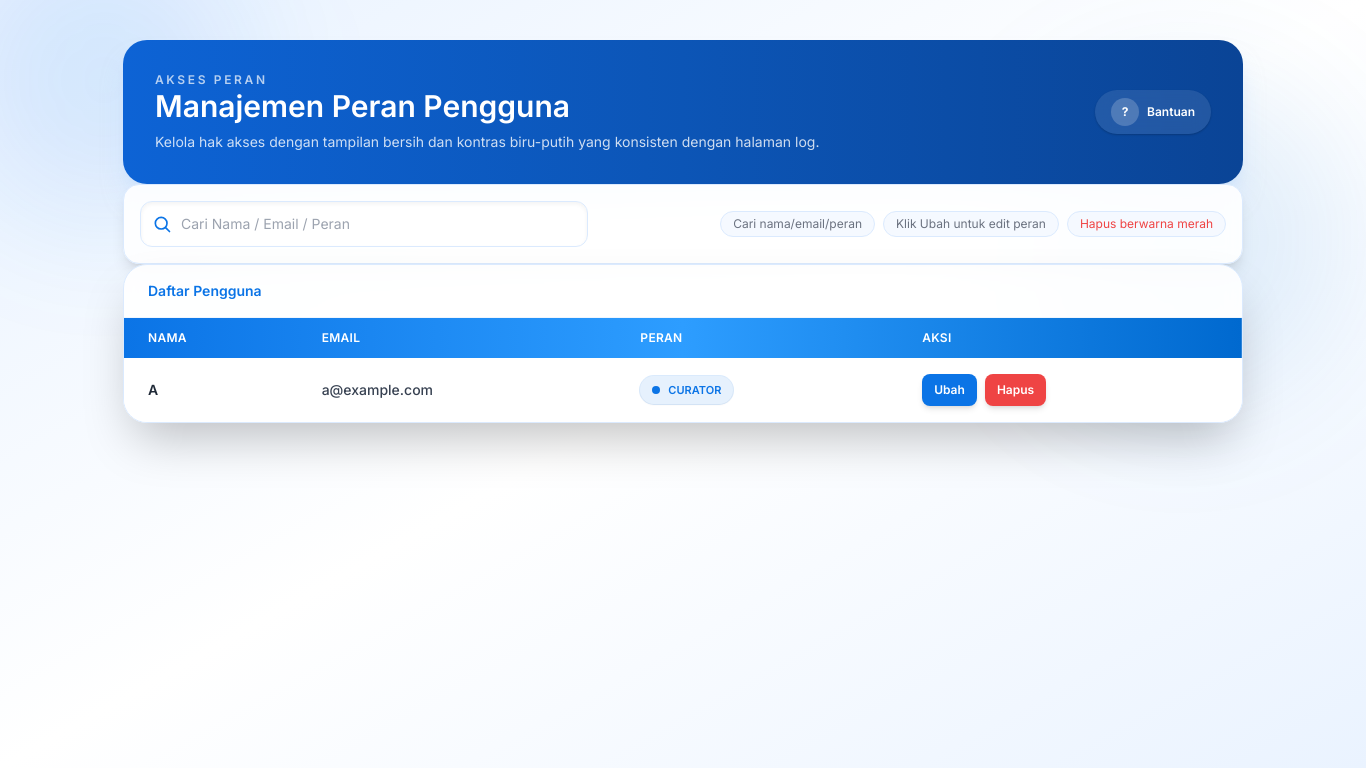
Test case: saving role shows success toast
Check: the text "A" is shown, box x1=148 y1=381 x2=158 y2=398
Click the button "Ubah" at {"x": 950, "y": 390}, box x1=922 y1=374 x2=977 y2=406
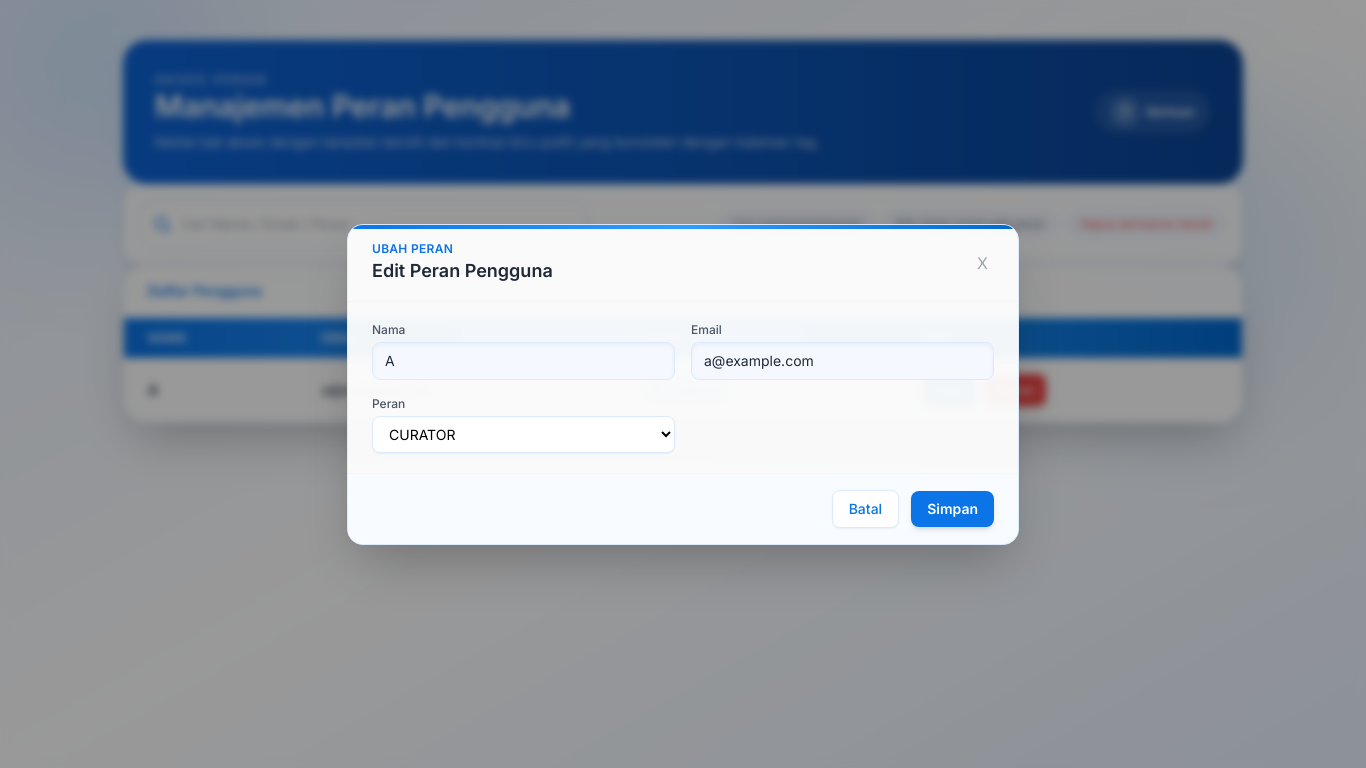
Select "ADMIN" in the dropdown showing "CURATOR" at {"x": 524, "y": 434}, box x1=372 y1=416 x2=675 y2=452
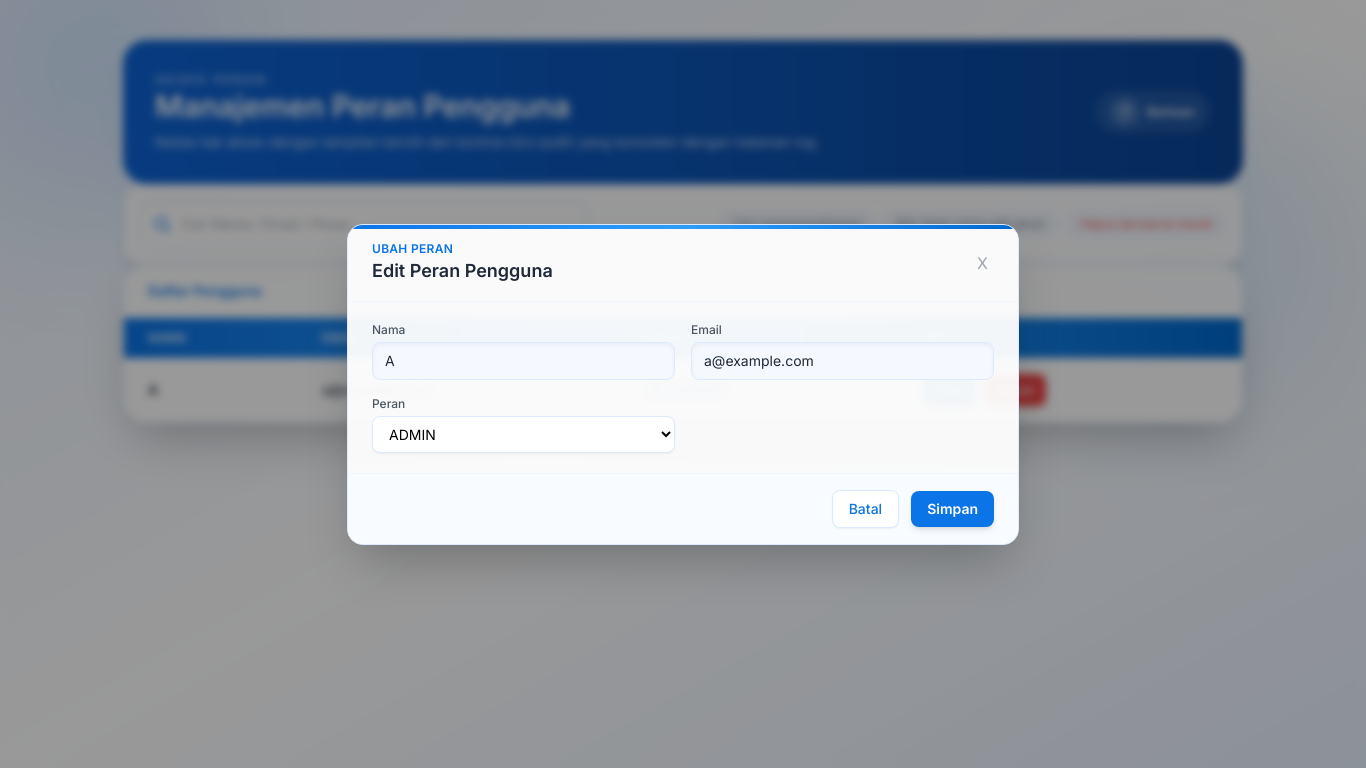
Click the button "Simpan" at {"x": 953, "y": 508}, box x1=911 y1=490 x2=994 y2=526
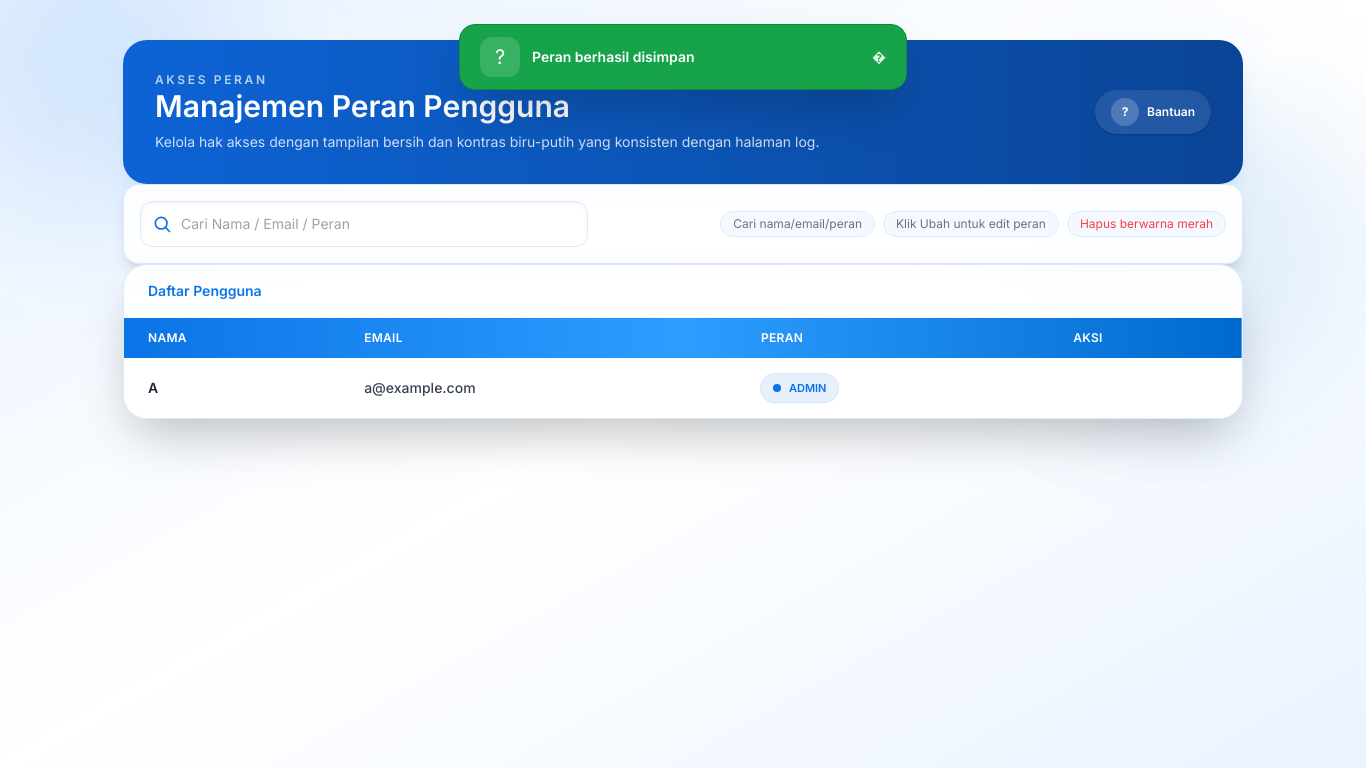
Check: the text "Peran berhasil disimpan" is shown, box x1=532 y1=48 x2=695 y2=65
